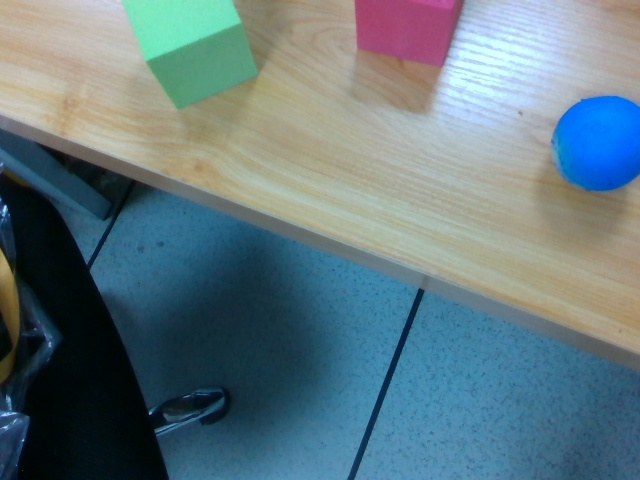blueball: (553, 94, 640, 193)
green: (124, 1, 259, 107)
red: (356, 1, 466, 68)
